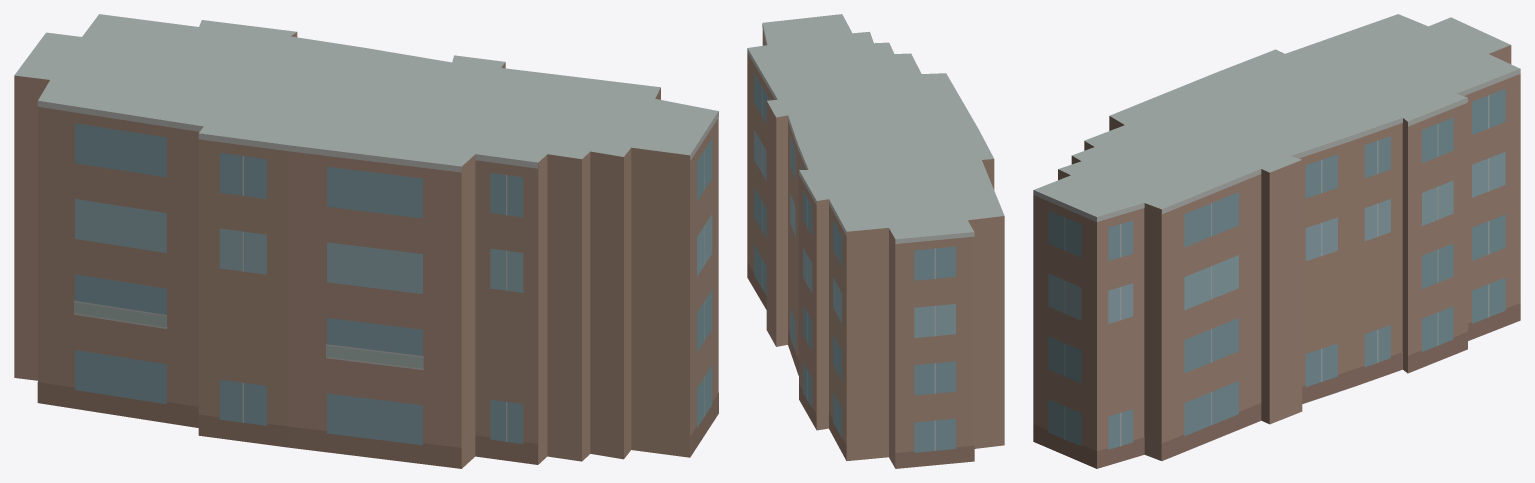
The model's file is survey-upis-32689943.glb.
3 views of the same model, side by side, from view 1: azimuth 30°, elevation 25°; view 2: azimuth 150°, elevation 25°; view 3: azimuth 270°, elevation 25° (orthographic). The views are drawn at different scales.
Parts seen in each view (by area): view 1: survey-upis-32689943.tmp; view 2: survey-upis-32689943.tmp; view 3: survey-upis-32689943.tmp.
Boxes of the visible parts, box(x1,y1,x2,y2) form: survey-upis-32689943.tmp: box(14, 14, 718, 468); survey-upis-32689943.tmp: box(747, 14, 1004, 468); survey-upis-32689943.tmp: box(1033, 14, 1520, 468).
Size of the model in its own units: 21.12 by 12.2 by 21.4.
